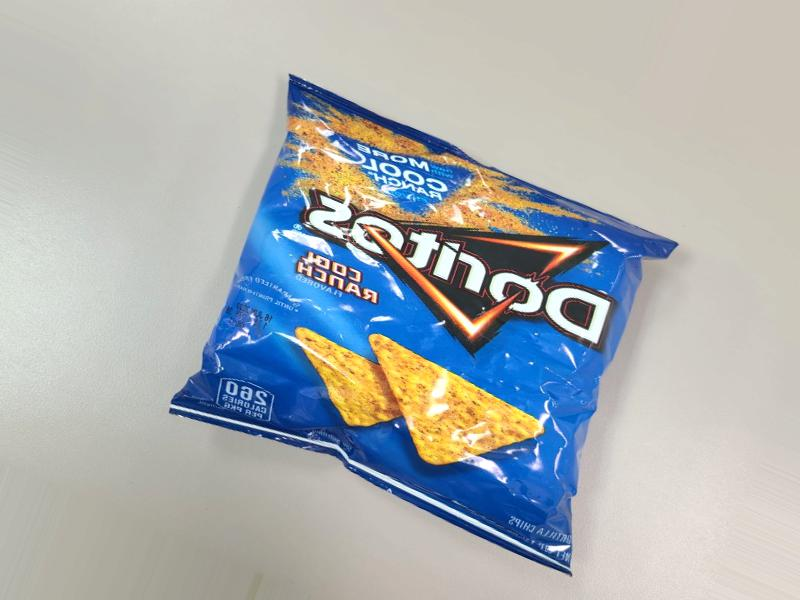doritos: (239, 104, 687, 600)
